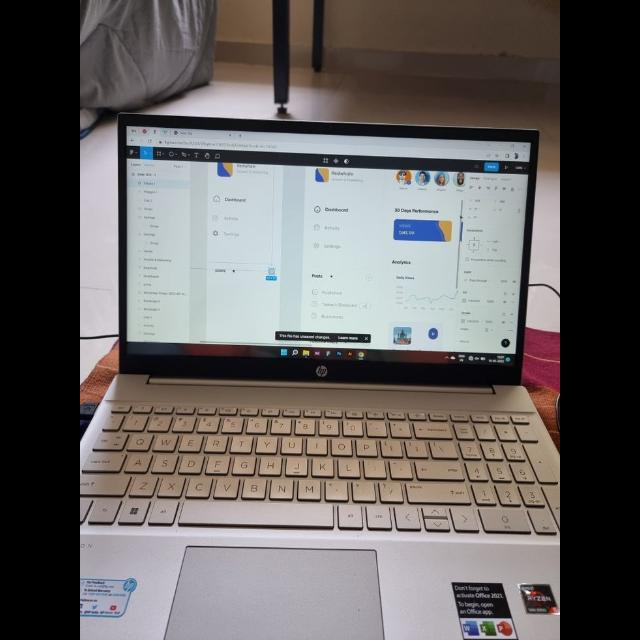laptop: (80, 114, 560, 639)
